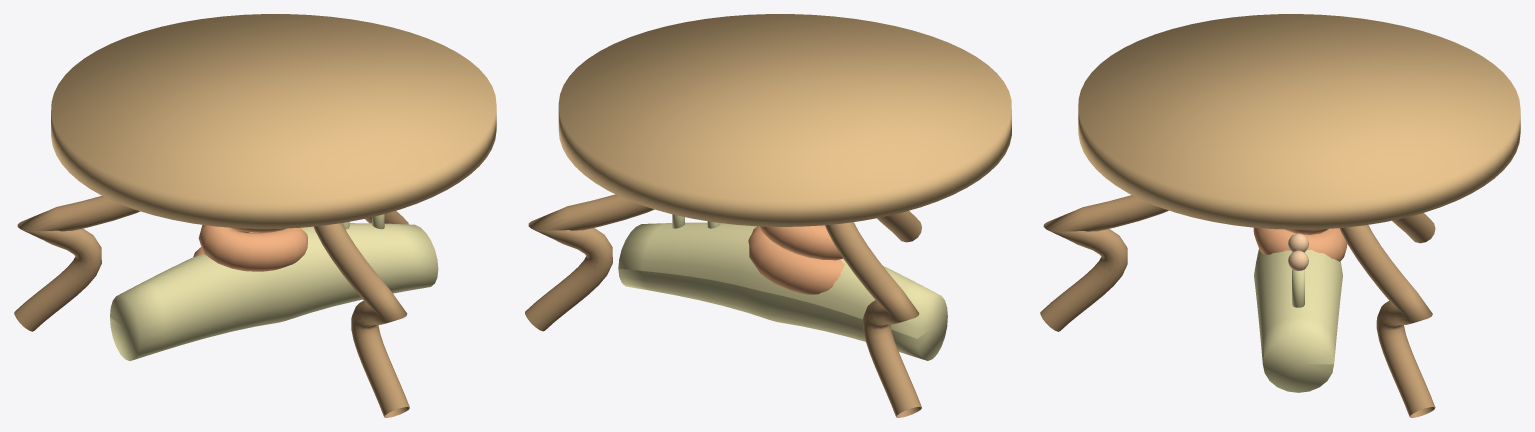
The model's file is round-table-v2.glb.
3 views of the same model, side by side, from view 1: azimuth 30°, elevation 25°; view 2: azimuth 150°, elevation 25°; view 3: azimuth 270°, elevation 25° (orthographic).
Parts seen in each view (by area): view 1: table_top, snail_body, table_leg_2, table_leg_1, snail_shell; view 2: table_top, snail_body, table_leg_1, table_leg_0, snail_shell, table_leg_2; view 3: table_top, snail_body, table_leg_2, table_leg_0, snail_shell, table_leg_1, snail_stalk_0.3.
Part boxes in pixels (x1=…): table_top: x1=51, y1=14, x2=496, y2=228; snail_body: x1=110, y1=223, x2=438, y2=361; table_leg_2: x1=313, y1=223, x2=409, y2=417; table_leg_1: x1=14, y1=196, x2=140, y2=331; snail_shell: x1=193, y1=225, x2=307, y2=271; table_top: x1=558, y1=14, x2=1011, y2=226; snail_body: x1=618, y1=222, x2=947, y2=360; table_leg_1: x1=825, y1=222, x2=921, y2=417; table_leg_0: x1=525, y1=194, x2=654, y2=331; snail_shell: x1=748, y1=225, x2=844, y2=294; table_leg_2: x1=877, y1=211, x2=921, y2=242; table_top: x1=1078, y1=14, x2=1520, y2=229; snail_body: x1=1254, y1=249, x2=1342, y2=392; table_leg_2: x1=1040, y1=195, x2=1168, y2=331; table_leg_0: x1=1339, y1=225, x2=1435, y2=417; snail_shell: x1=1253, y1=227, x2=1347, y2=261; table_leg_1: x1=1392, y1=213, x2=1435, y2=243; snail_stalk_0.3: x1=1292, y1=269, x2=1304, y2=307.
Bounding box in the file's own units: 1.12 × 0.6024 × 1.18.
